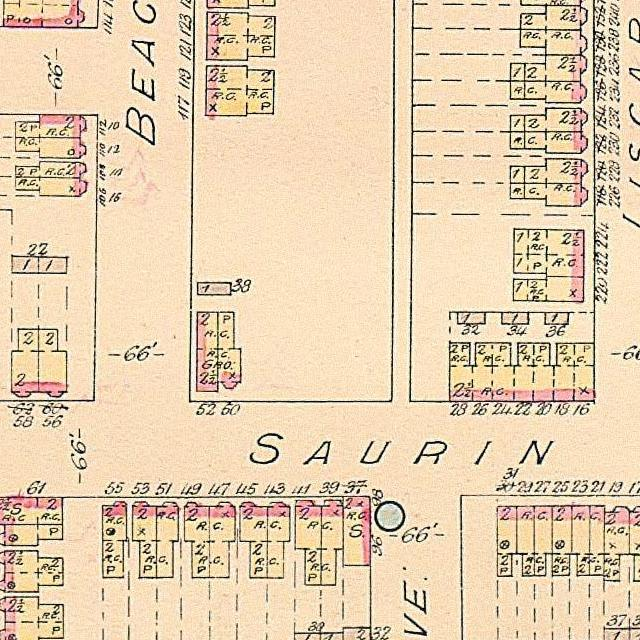building-footprints: (449, 343, 594, 402), (205, 66, 274, 116), (513, 229, 583, 276), (206, 12, 274, 60), (15, 115, 86, 159), (0, 597, 63, 640), (0, 550, 63, 592), (3, 0, 84, 28), (572, 506, 604, 576), (295, 500, 321, 585), (239, 502, 267, 578), (603, 507, 629, 581), (38, 329, 66, 397), (184, 502, 209, 578), (209, 502, 234, 578), (321, 500, 343, 585), (343, 497, 370, 566), (11, 329, 38, 397), (217, 312, 241, 388), (102, 502, 126, 578), (132, 502, 156, 578), (513, 276, 583, 302), (266, 502, 289, 578), (519, 29, 586, 55), (0, 497, 62, 525), (196, 312, 217, 392), (520, 5, 587, 30), (524, 55, 586, 82), (156, 502, 178, 578), (524, 108, 587, 132), (524, 159, 586, 183), (524, 183, 587, 206), (552, 506, 572, 576), (524, 81, 586, 103), (0, 524, 62, 546), (15, 177, 86, 196), (497, 506, 516, 576), (524, 132, 586, 153), (516, 506, 534, 576), (534, 506, 552, 576), (15, 162, 85, 178), (629, 507, 640, 581), (207, 0, 274, 8), (38, 257, 66, 274), (11, 256, 38, 273), (197, 282, 230, 295), (457, 312, 485, 324), (501, 312, 528, 324), (343, 628, 370, 640), (521, 0, 583, 5), (604, 628, 629, 640), (545, 312, 568, 324), (510, 166, 524, 184), (510, 63, 524, 81), (510, 81, 524, 99), (510, 132, 524, 149), (510, 115, 524, 132), (510, 184, 524, 199), (294, 633, 320, 640), (320, 633, 343, 640), (629, 628, 640, 640)
